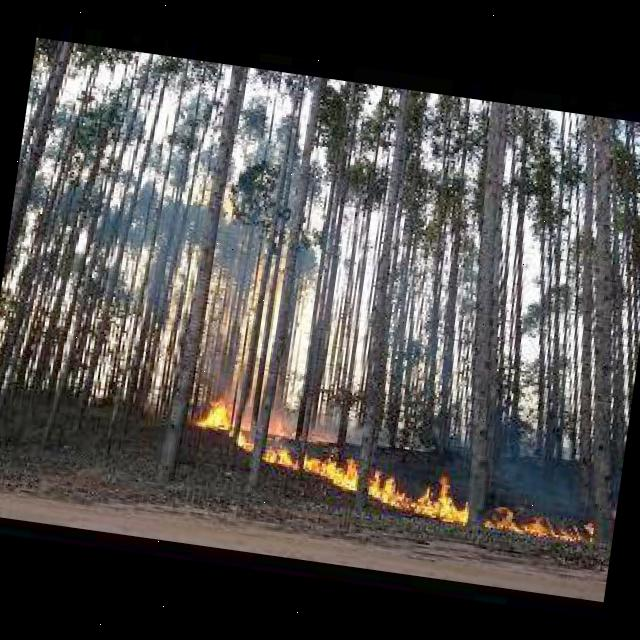fire: (181, 392, 611, 548)
